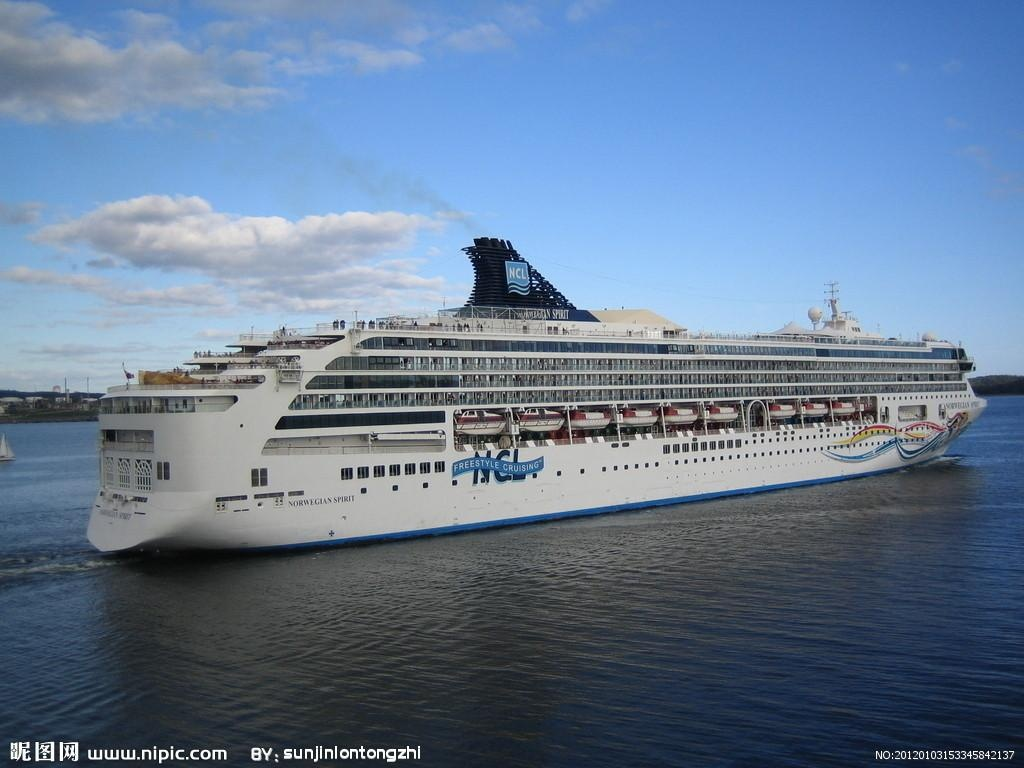youlun: (88, 228, 985, 564)
